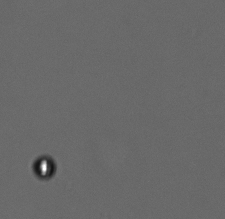Living Cell: (30, 154, 57, 181)
